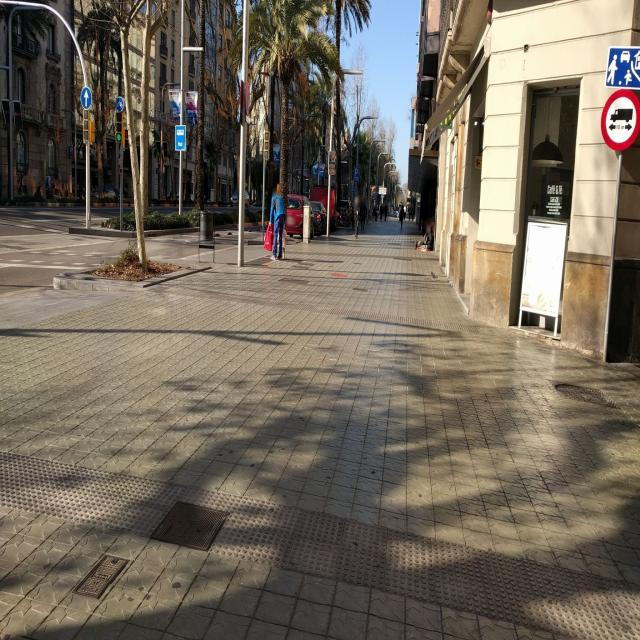car: (283, 194, 312, 242), (309, 200, 328, 237), (335, 198, 353, 227)
